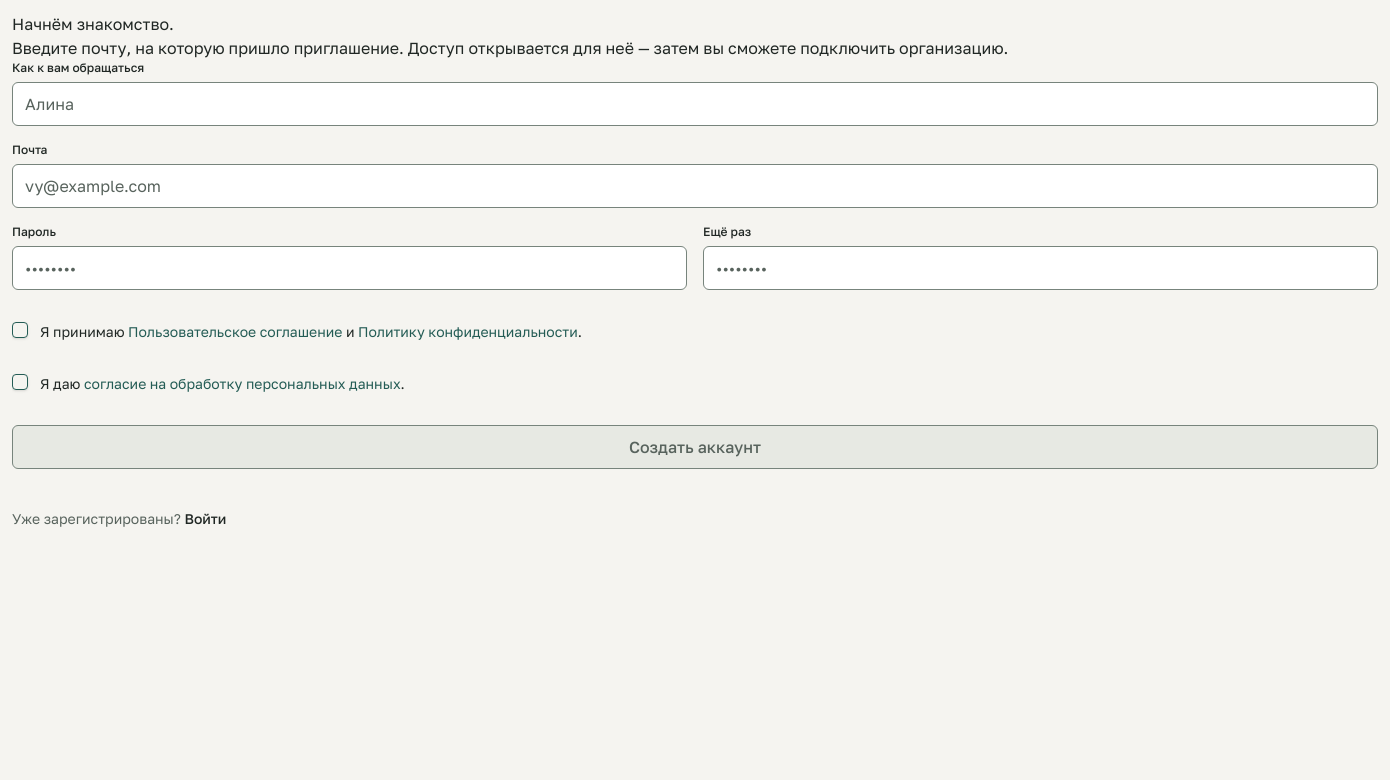
it: shows actionable invitation errors without losing input in ru
This screenshot has width=1390, height=780.
Step 1. Type "Owner" into the field with id "name" → (695,104), box top-left (12, 82), bottom-right (1378, 126)
Step 2. Type "owner@example.org" into the field with id "email" → (695,186), box top-left (12, 164), bottom-right (1378, 208)
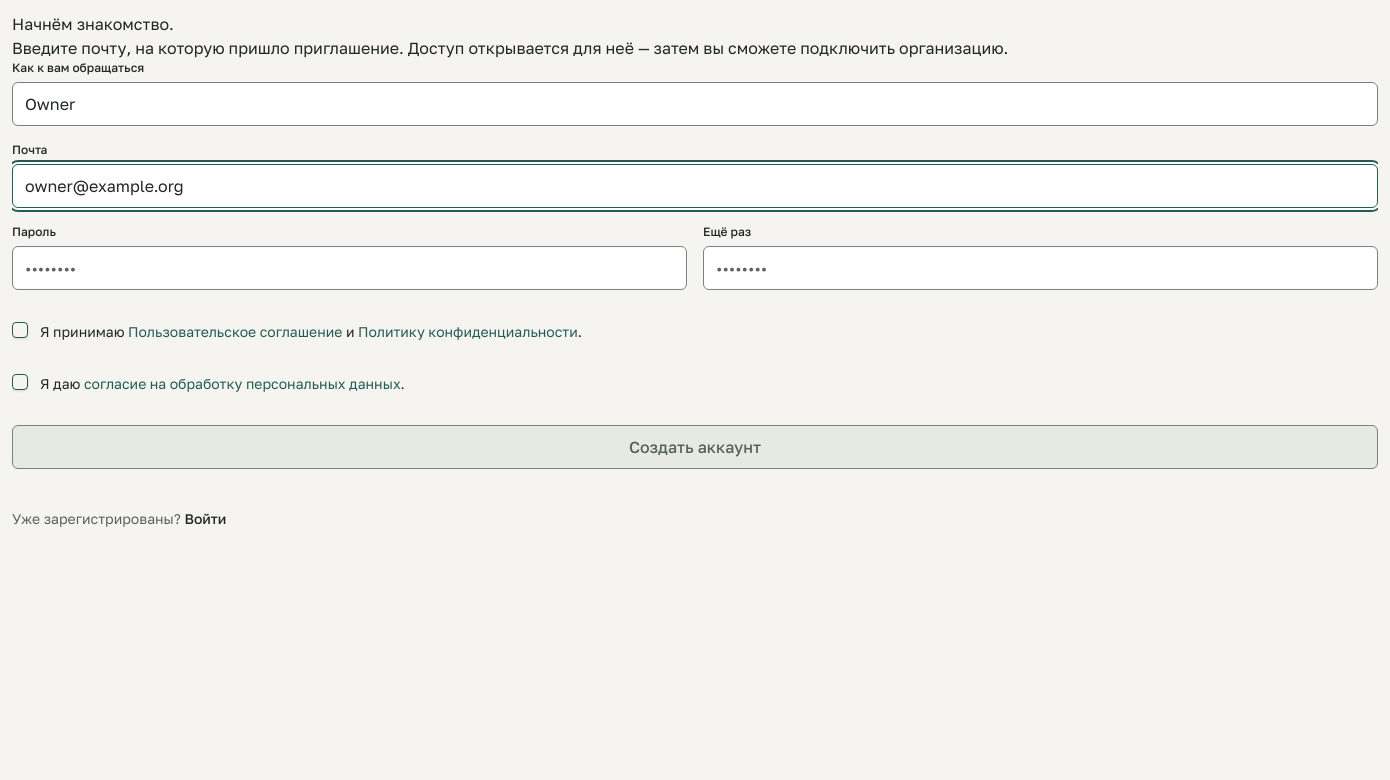
Step 3. Type "12345678" into the password field labelled "Пароль" → (350,268), box top-left (12, 246), bottom-right (687, 290)
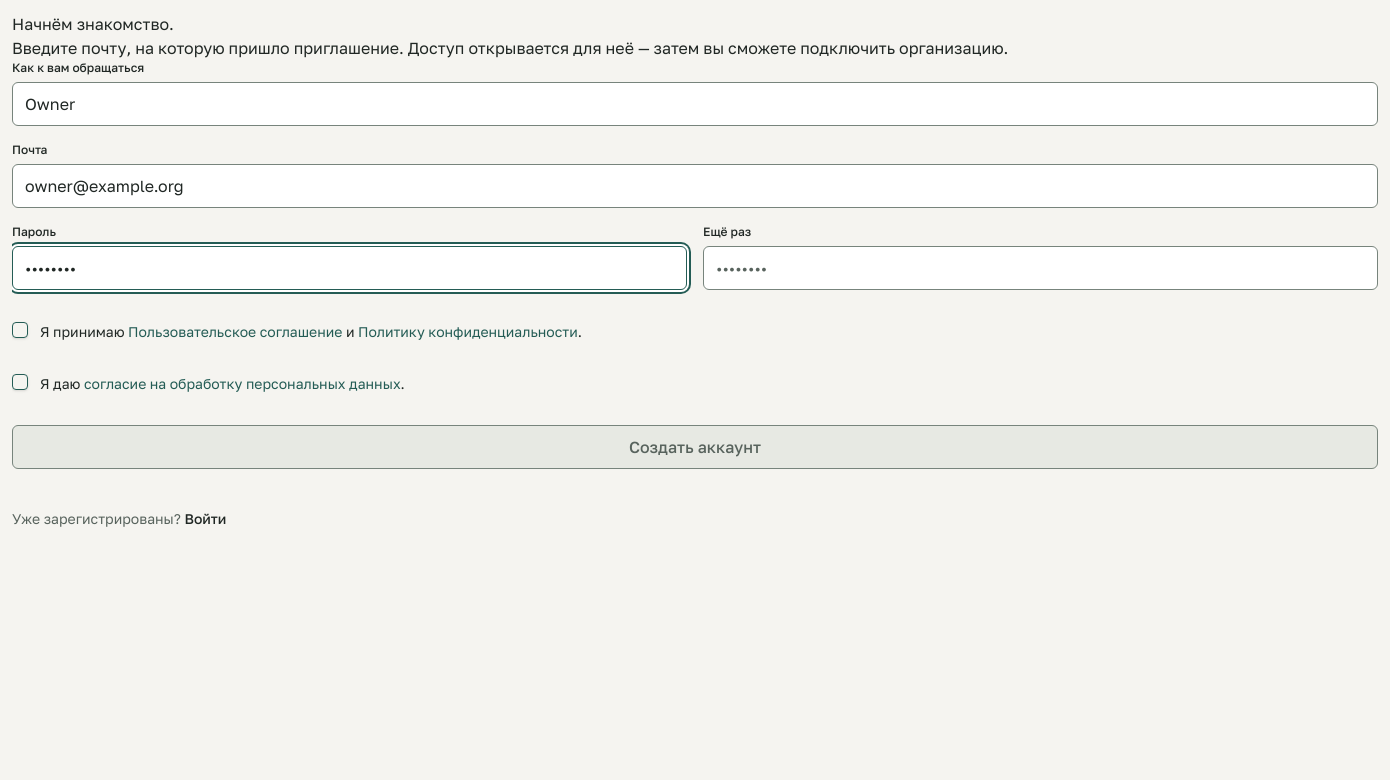
Step 4. Type "12345678" into the password field with id "confirmPassword" → (1040,268), box top-left (703, 246), bottom-right (1378, 290)
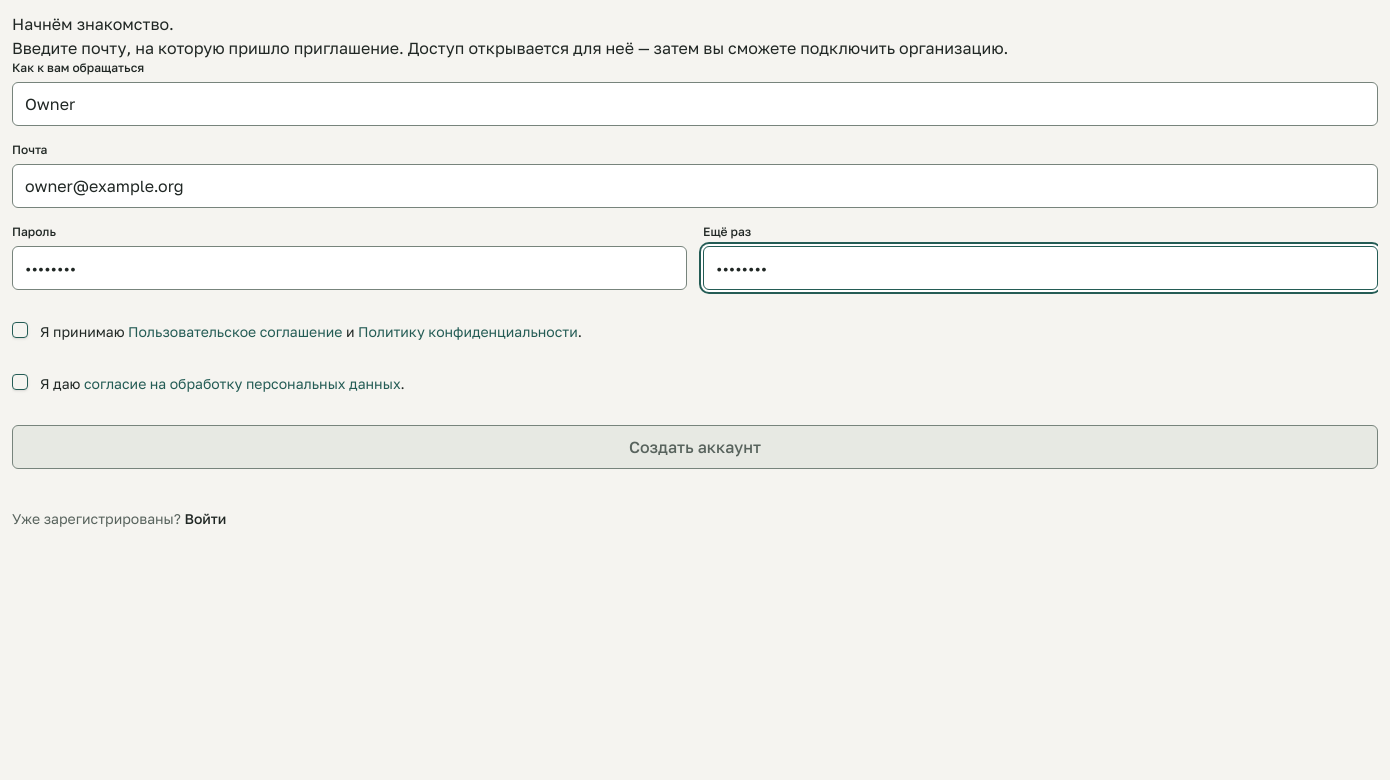
Step 5. Click the checkbox next to "Я принимаю" → (20,330), box top-left (12, 322), bottom-right (28, 338)
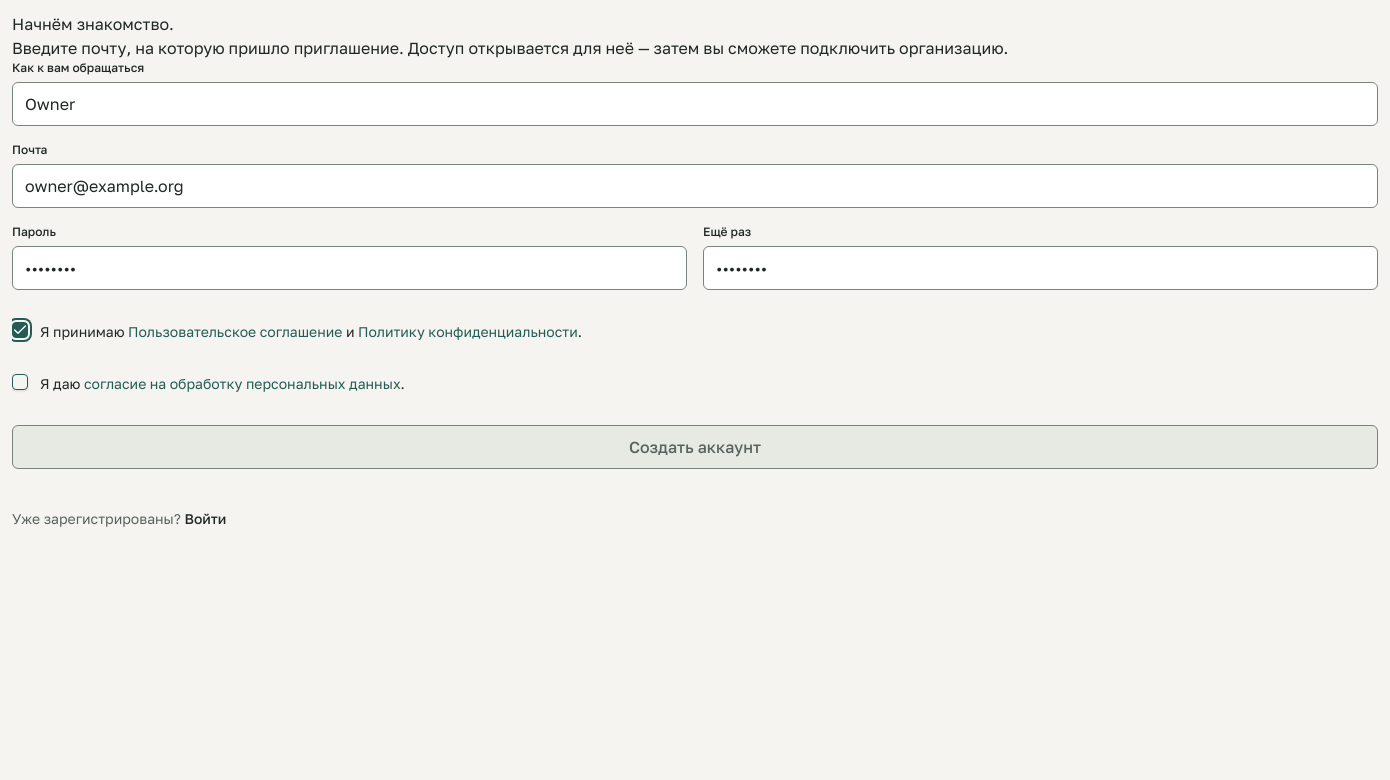
Step 6. Click the checkbox next to "Я даю" → (20,382), box top-left (12, 374), bottom-right (28, 390)
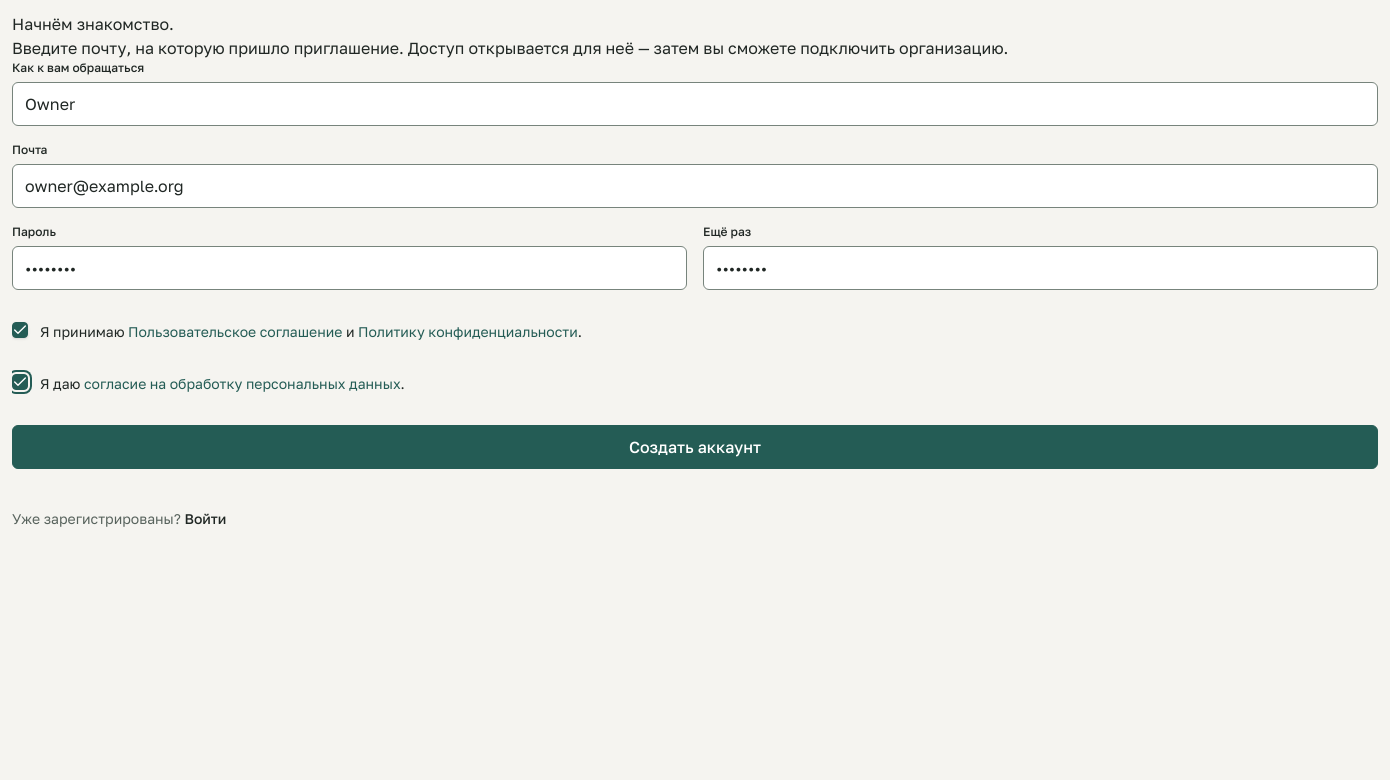
Step 7. Click the submit button → (695,447), box top-left (12, 425), bottom-right (1378, 469)
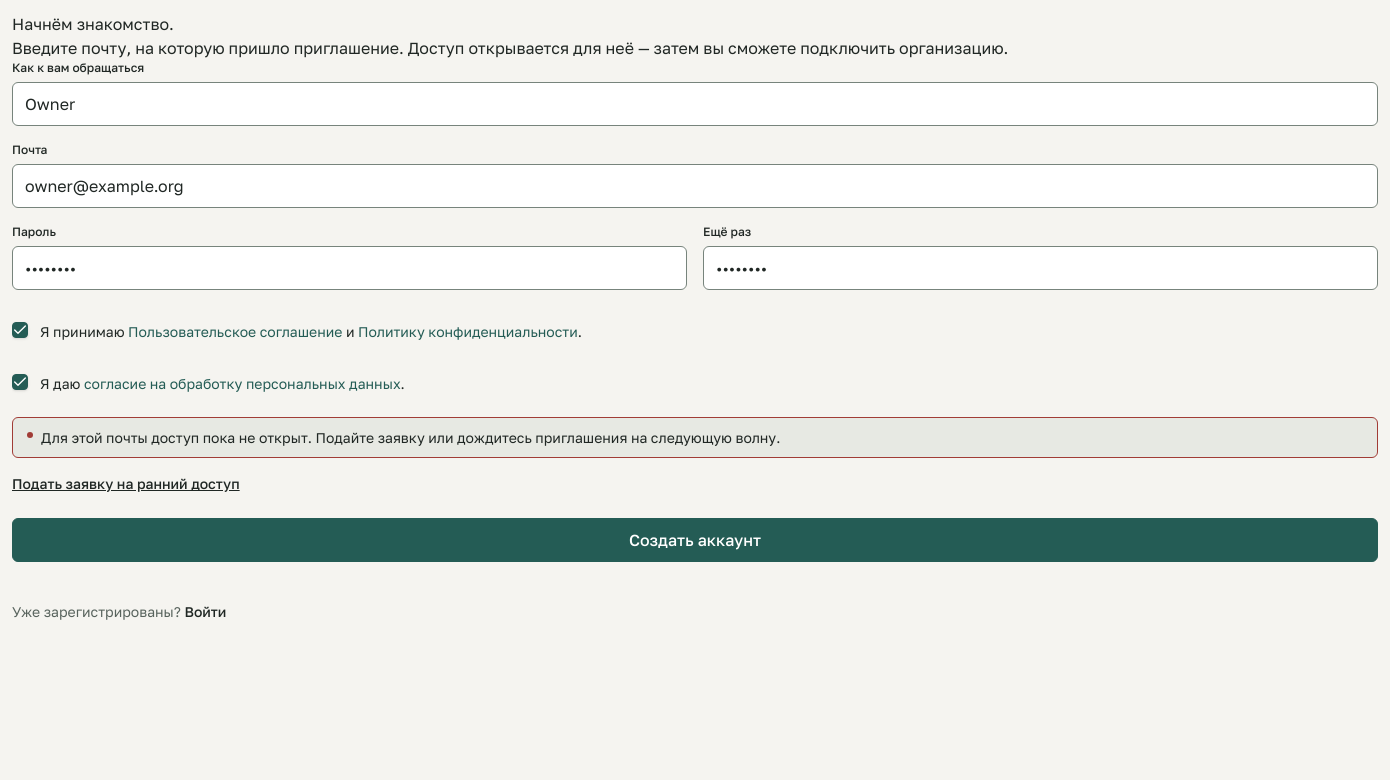
Expected: the message shows "Для этой почты доступ пока не открыт. Подайте заявку или дождитесь приглашения на следующую волну.", top-left (41, 429), bottom-right (780, 446)
